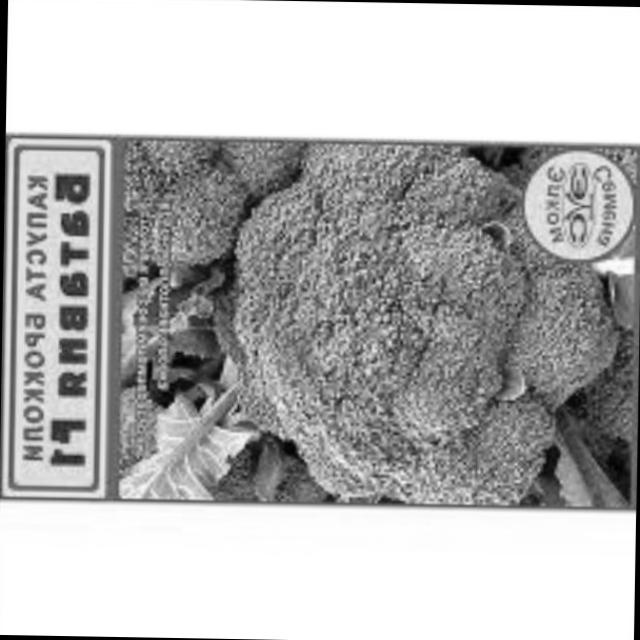broccoli: (205, 141, 640, 503), (108, 110, 294, 275)
